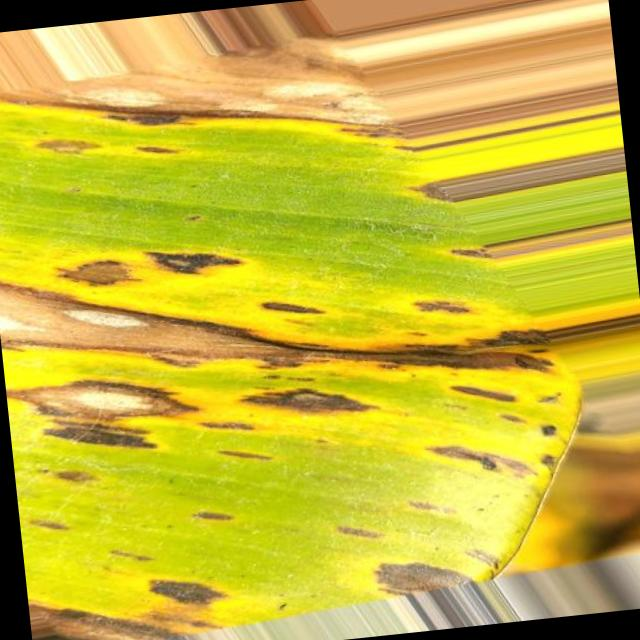Banana_Black_Sigatoka: (0, 187, 598, 522), (0, 45, 416, 203), (28, 524, 502, 640)
